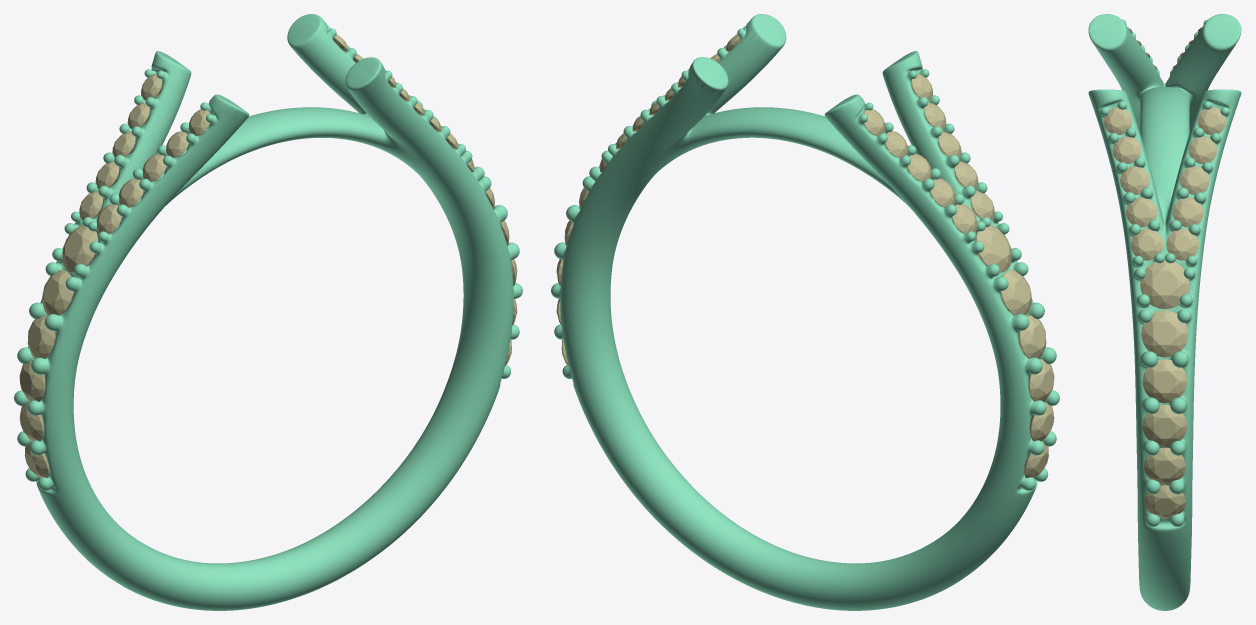
The picture shows the model from 3 angles, left to right: view 1: azimuth 30°, elevation 25°; view 2: azimuth 150°, elevation 25°; view 3: azimuth 270°, elevation 25°; orthographic projection. The views are drawn at different scales.
Visible parts, largest first — view 1: Metal02, Diamond_Gem.009, Diamond_Gem.014, Diamond_Gem.013, Diamond_Gem.012; view 2: Metal02, Diamond_Gem.009, Diamond_Gem.014, Diamond_Gem.013, Diamond_Gem.012; view 3: Metal02, Diamond_Gem.022, Diamond_Gem.017, Diamond_Gem.018, Diamond_Gem.019, Diamond_Gem.021, Diamond_Gem.020, Diamond_Gem.026, Diamond_Gem.027, Diamond_Gem.025, Diamond_Gem.028, Diamond_Gem.029 (+5 smaller).
Part boxes in pixels (left/top/right/bottom): Metal02: left=14, top=14, right=522, bottom=610; Diamond_Gem.009: left=62, top=225, right=97, bottom=272; Diamond_Gem.014: left=42, top=270, right=73, bottom=315; Diamond_Gem.013: left=27, top=315, right=55, bottom=358; Diamond_Gem.012: left=19, top=359, right=45, bottom=401; Metal02: left=551, top=14, right=1059, bottom=610; Diamond_Gem.009: left=975, top=225, right=1011, bottom=272; Diamond_Gem.014: left=1000, top=270, right=1031, bottom=315; Diamond_Gem.013: left=1018, top=315, right=1046, bottom=358; Diamond_Gem.012: left=1028, top=359, right=1054, bottom=401; Metal02: left=1088, top=14, right=1241, bottom=610; Diamond_Gem.022: left=1140, top=260, right=1189, bottom=309; Diamond_Gem.017: left=1141, top=310, right=1188, bottom=357; Diamond_Gem.018: left=1142, top=359, right=1186, bottom=403; Diamond_Gem.019: left=1142, top=404, right=1186, bottom=446; Diamond_Gem.021: left=1144, top=447, right=1185, bottom=484; Diamond_Gem.020: left=1144, top=485, right=1185, bottom=518; Diamond_Gem.026: left=1131, top=228, right=1163, bottom=260; Diamond_Gem.027: left=1166, top=228, right=1198, bottom=260; Diamond_Gem.025: left=1126, top=197, right=1157, bottom=227; Diamond_Gem.028: left=1172, top=197, right=1203, bottom=227; Diamond_Gem.029: left=1179, top=166, right=1209, bottom=194.
Bounding box in the file's own units: 21.33 × 22.53 × 5.86.
